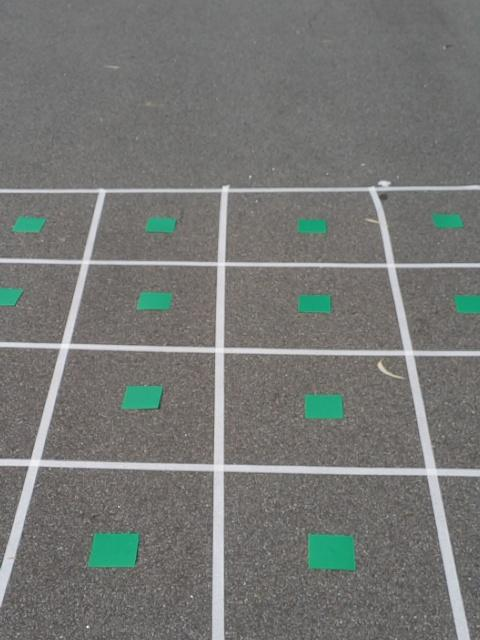weed: (308, 532, 356, 571), (87, 533, 140, 567), (121, 384, 166, 412), (304, 393, 344, 421), (297, 294, 334, 314), (136, 292, 174, 310), (143, 216, 179, 233), (430, 212, 464, 230), (296, 217, 329, 234), (455, 293, 480, 315), (14, 216, 48, 231), (0, 287, 25, 306)
